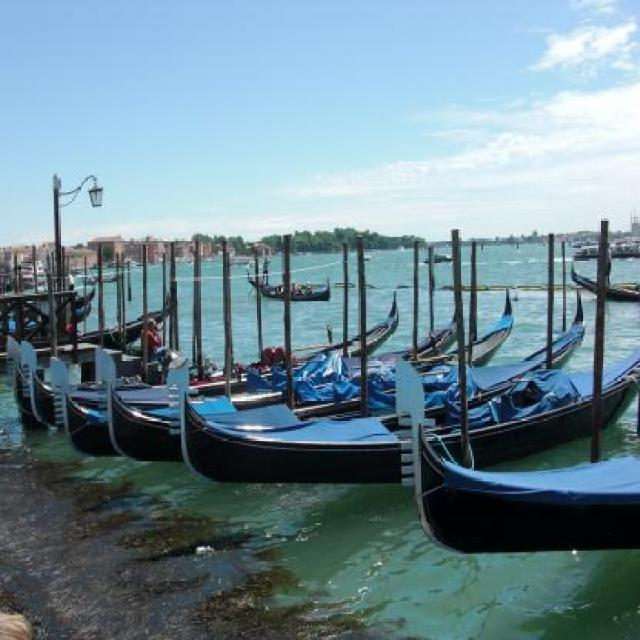ship: (94, 284, 586, 462), (164, 359, 638, 483), (21, 288, 398, 427), (390, 350, 639, 548), (244, 267, 330, 301), (568, 262, 638, 300), (572, 240, 638, 258)
